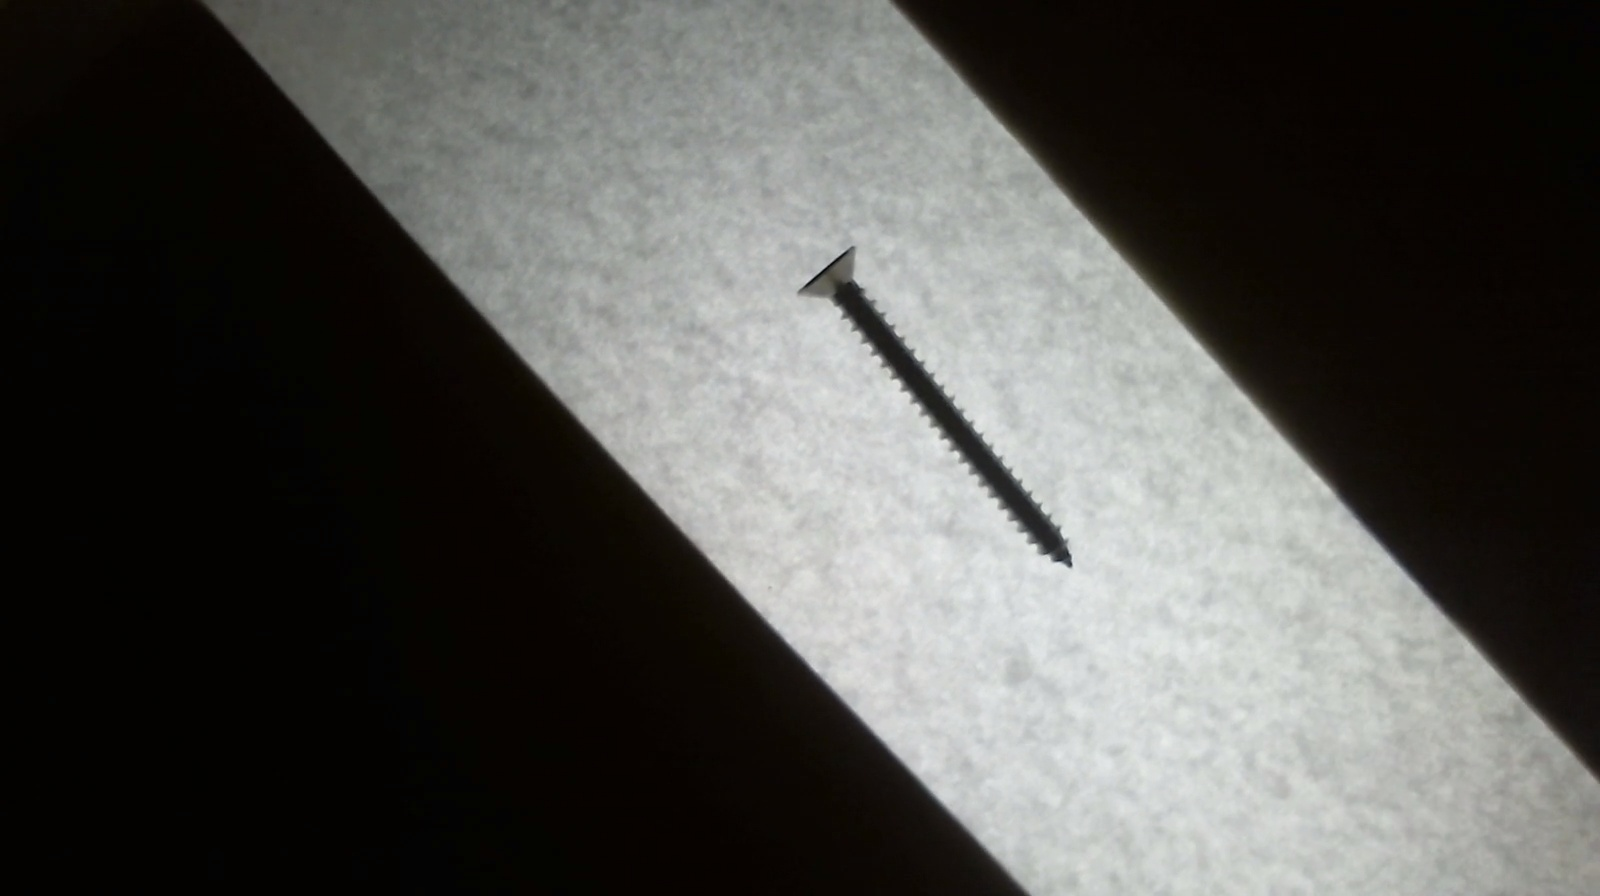S002: (776, 228, 1112, 586)
